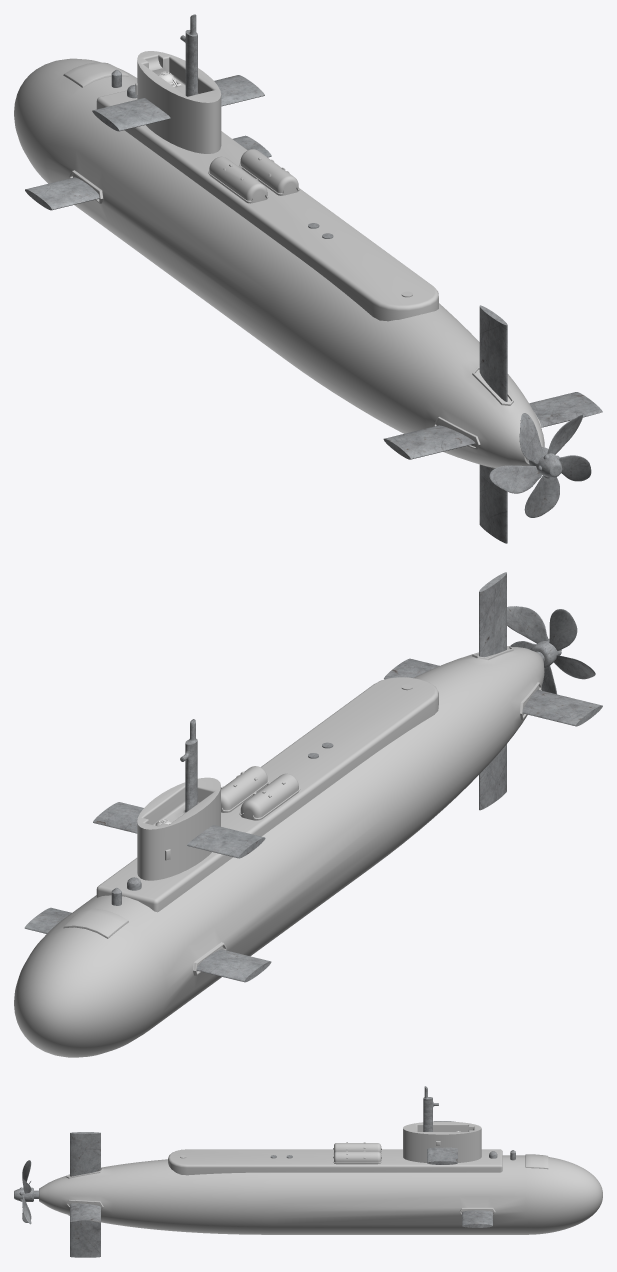
Rendered from submarin .fbx.
The picture shows the model from 3 angles, top to bottom: view 1: azimuth 30°, elevation 25°; view 2: azimuth 150°, elevation 25°; view 3: azimuth 270°, elevation 25°; orthographic projection. The views are drawn at different scales.
Visible parts, largest first — view 1: Cylinder.004, Cube, Cylinder.003, Cylinder.020, Cylinder.018, Cylinder.019, Cylinder.011, Cylinder.017, Cylinder.007, Cylinder.012, Cylinder.013, Plane.005 (+3 smaller); view 2: Cylinder.004, Cube, Cylinder.003, Cylinder.020, Cylinder.018, Cylinder.011, Cylinder.007, Cylinder.012, Cylinder.013, Cylinder.019, Plane.001, Cylinder.010 (+3 smaller); view 3: Cylinder.004, Cube, Cylinder.003, Cylinder.020, Cylinder.019, Cylinder.013, Cylinder.006, Cylinder.010, Cylinder.017, Cylinder.012, Cylinder.001.
Boxes of the visible parts, x1,y1,x2,y2 form: Cylinder.004: (14, 58, 544, 468); Cube: (96, 90, 438, 321); Cylinder.003: (135, 14, 221, 153); Cylinder.020: (479, 305, 507, 401); Cylinder.018: (383, 425, 475, 459); Cylinder.019: (479, 464, 507, 543); Cylinder.011: (92, 98, 170, 131); Cylinder.017: (529, 392, 602, 427); Cylinder.007: (25, 177, 99, 210); Cylinder.012: (208, 156, 268, 203); Cylinder.013: (239, 149, 299, 195); Plane.005: (489, 465, 541, 493); Cylinder.004: (14, 646, 544, 1057); Cube: (96, 677, 438, 912); Cylinder.003: (137, 719, 220, 880); Cylinder.020: (479, 572, 506, 657); Cylinder.018: (522, 690, 602, 726); Cylinder.011: (187, 825, 265, 858); Cylinder.007: (196, 949, 271, 982); Cylinder.012: (239, 773, 300, 820); Cylinder.013: (221, 766, 268, 812); Cylinder.019: (479, 744, 506, 810); Plane.001: (507, 606, 548, 643); Cylinder.010: (93, 802, 143, 833); Cylinder.004: (39, 1154, 602, 1234); Cube: (168, 1149, 502, 1175); Cylinder.003: (403, 1086, 481, 1162); Cylinder.020: (70, 1132, 100, 1176); Cylinder.019: (70, 1220, 100, 1257); Cylinder.013: (333, 1150, 381, 1164); Cylinder.006: (462, 1210, 492, 1227); Cylinder.010: (427, 1147, 457, 1164); Cylinder.017: (70, 1203, 100, 1221); Cylinder.012: (333, 1142, 381, 1153); Cylinder.001: (14, 1187, 38, 1201).
Bounding box in the file's own units: 361 × 472 × 1476.
